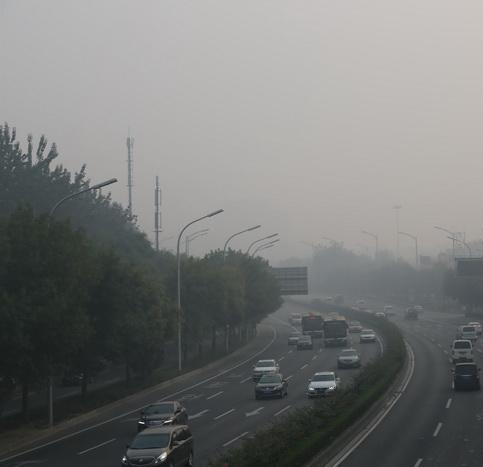bus: (320, 312, 349, 349), (300, 309, 324, 340)
car: (117, 424, 194, 467), (137, 402, 189, 434), (306, 370, 342, 398), (253, 372, 287, 400), (451, 362, 482, 391), (335, 347, 363, 369), (251, 359, 280, 380), (449, 339, 474, 363), (455, 324, 478, 344), (296, 335, 313, 352), (465, 321, 482, 337), (357, 329, 376, 343), (287, 331, 303, 346), (371, 311, 387, 325), (404, 307, 418, 321), (347, 320, 362, 333), (290, 311, 303, 326), (411, 303, 425, 314), (355, 298, 367, 309), (382, 307, 394, 317)
